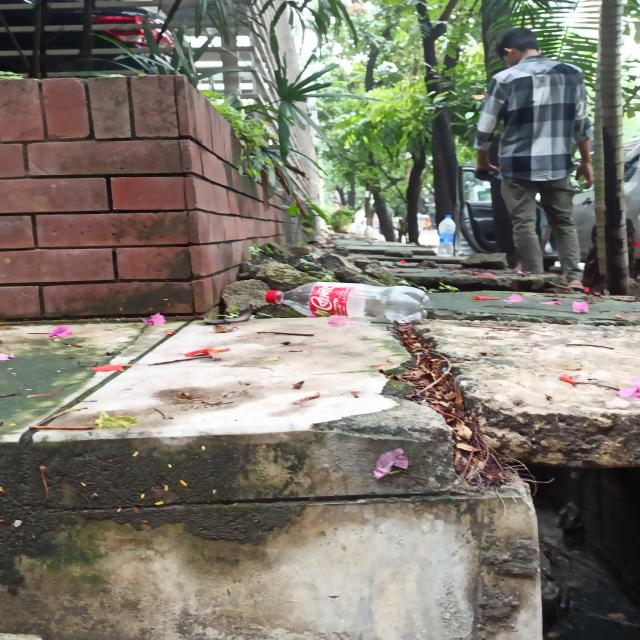artificial_container: (264, 281, 430, 321), (438, 214, 456, 256)
